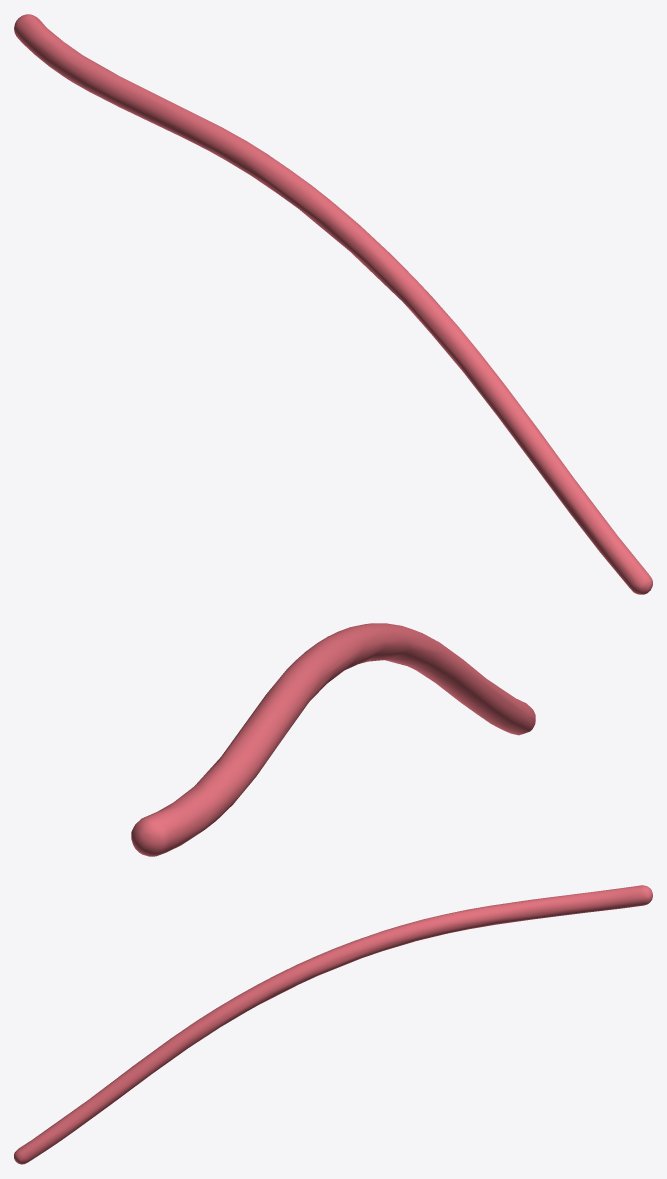
The model's file is fma43938_fj2089.glb.
3 renders of one model, top to bottom at view 1: azimuth 30°, elevation 25°; view 2: azimuth 150°, elevation 25°; view 3: azimuth 270°, elevation 25°, orthographic. The views are drawn at different scales.
Visible parts, largest first — view 1: FMA43938_FJ2089; view 2: FMA43938_FJ2089; view 3: FMA43938_FJ2089.
Boxes of the visible parts, <box> form: FMA43938_FJ2089: <box>14,14,652,594</box>; FMA43938_FJ2089: <box>131,623,535,856</box>; FMA43938_FJ2089: <box>14,885,652,1164</box>.
Bounding box in the file's own units: 0.0143 × 0.0206 × 0.0554.
